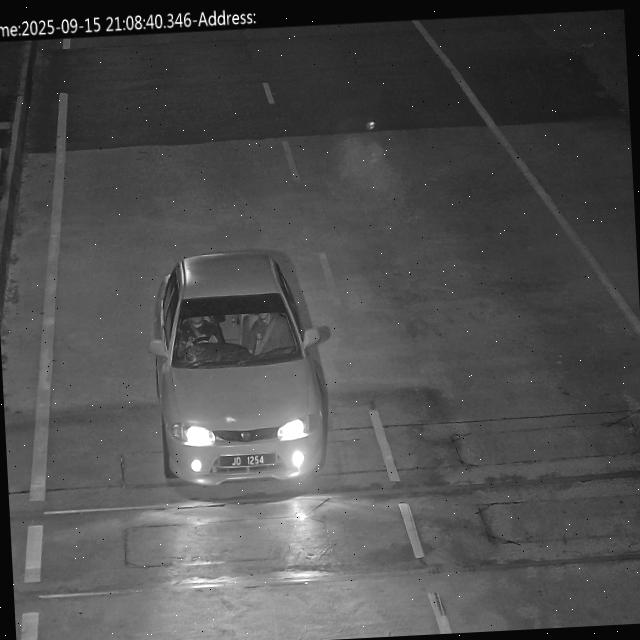front: (221, 454, 280, 472)
